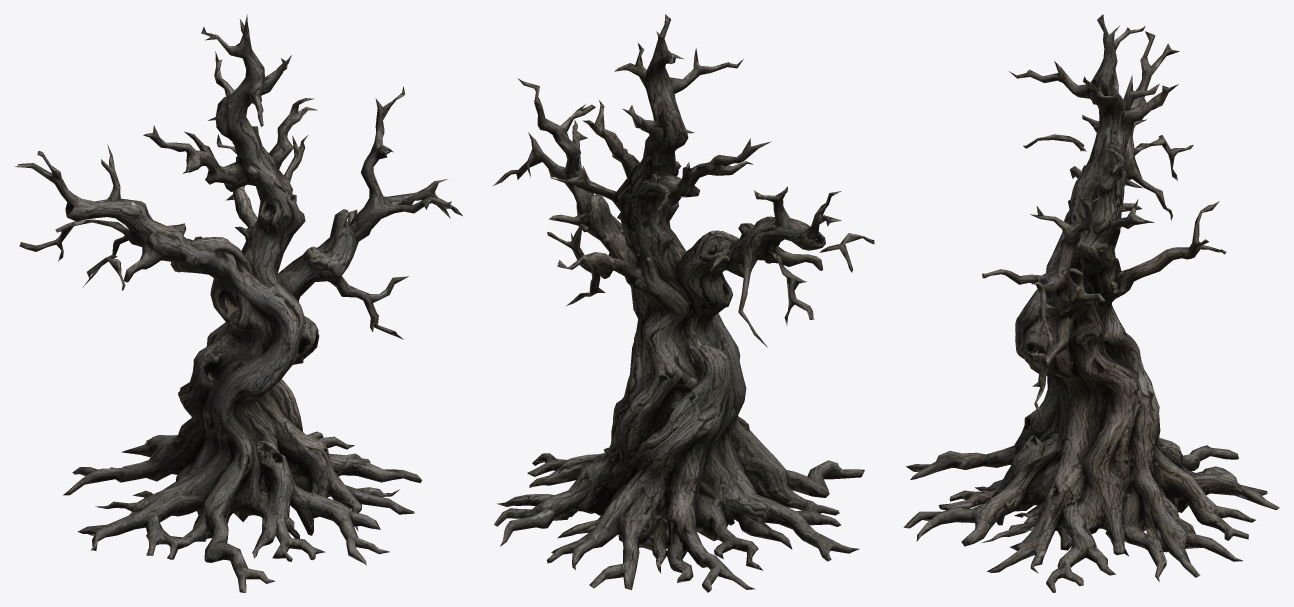
File: DeadTree.fbx
The picture shows the model from 3 angles, left to right: view 1: azimuth 30°, elevation 25°; view 2: azimuth 150°, elevation 25°; view 3: azimuth 270°, elevation 25°; orthographic projection. The views are drawn at different scales.
Visible parts, largest first — view 1: texture_mapping; view 2: texture_mapping; view 3: texture_mapping.
Part boxes in pixels (<box>): texture_mapping: <box>15,14,462,592</box>; texture_mapping: <box>493,14,874,592</box>; texture_mapping: <box>903,14,1279,592</box>.
Bounding box in the file's own units: 82.72 × 98.35 × 66.48.
Materials: 1 (1 with a texture image).
